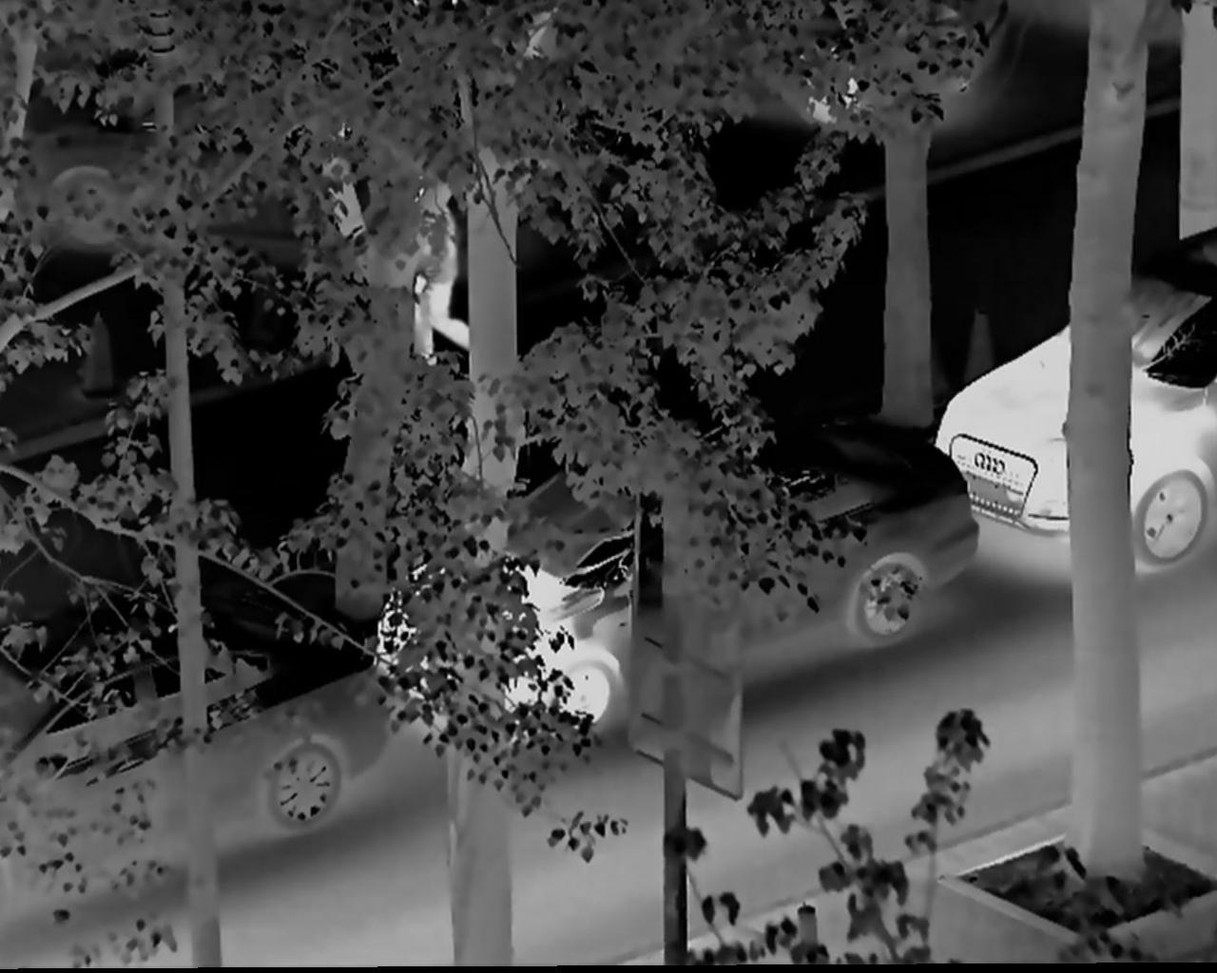person: (393, 168, 487, 390)
